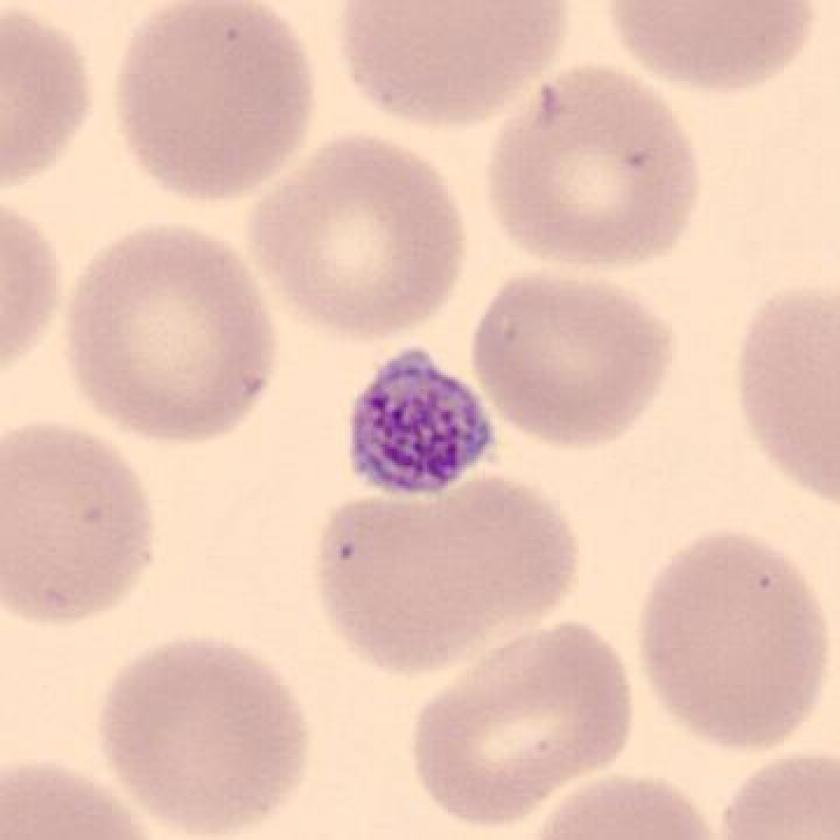platelets: (342, 346, 500, 498)
